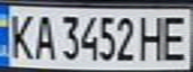2: (115, 12, 139, 62)
3: (57, 11, 81, 62)
4: (78, 11, 100, 62)
5: (96, 12, 121, 62)
A: (30, 11, 57, 61)
E: (157, 11, 193, 62)
H: (136, 12, 169, 62)
K: (3, 10, 36, 61)
